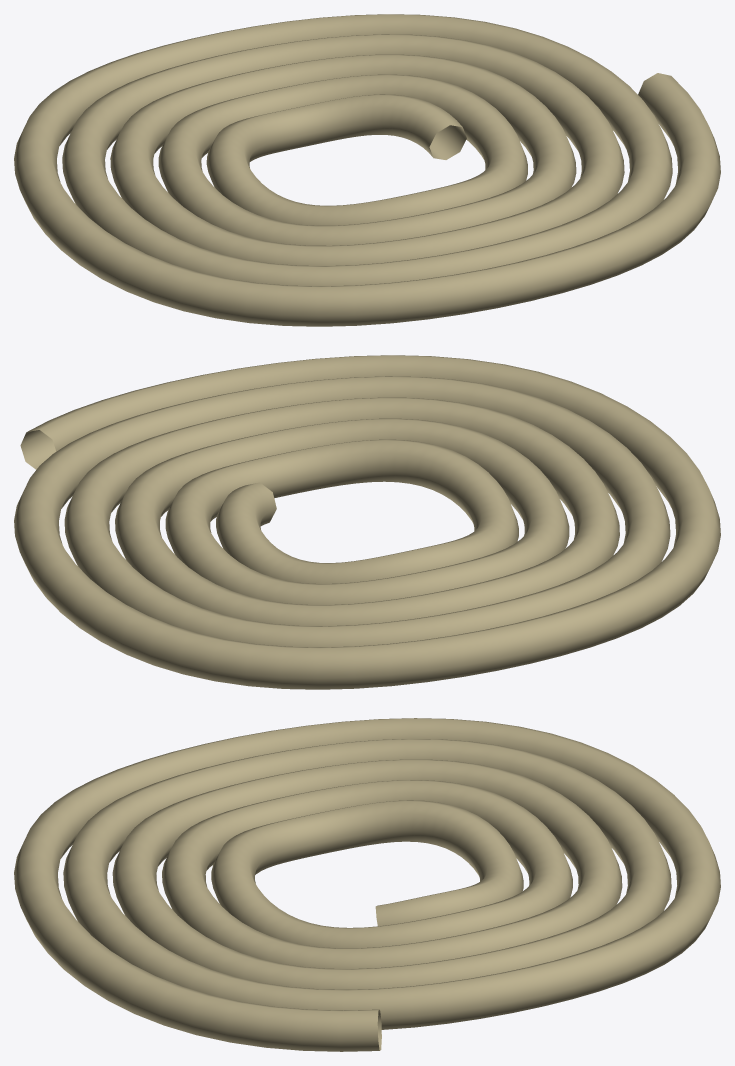
Rendered from rope.glb.
The picture shows the model from 3 angles, top to bottom: view 1: azimuth 30°, elevation 25°; view 2: azimuth 150°, elevation 25°; view 3: azimuth 270°, elevation 25°; orthographic projection. The views are drawn at different scales.
Visible parts, largest first — view 1: Rope Coil; view 2: Rope Coil; view 3: Rope Coil.
Boxes of the visible parts, x1,y1,x2,y2 form: Rope Coil: (14, 14, 720, 326); Rope Coil: (14, 355, 720, 689); Rope Coil: (14, 718, 720, 1051).
Size of the model in its own units: 0.8009 by 0.064 by 0.774.
